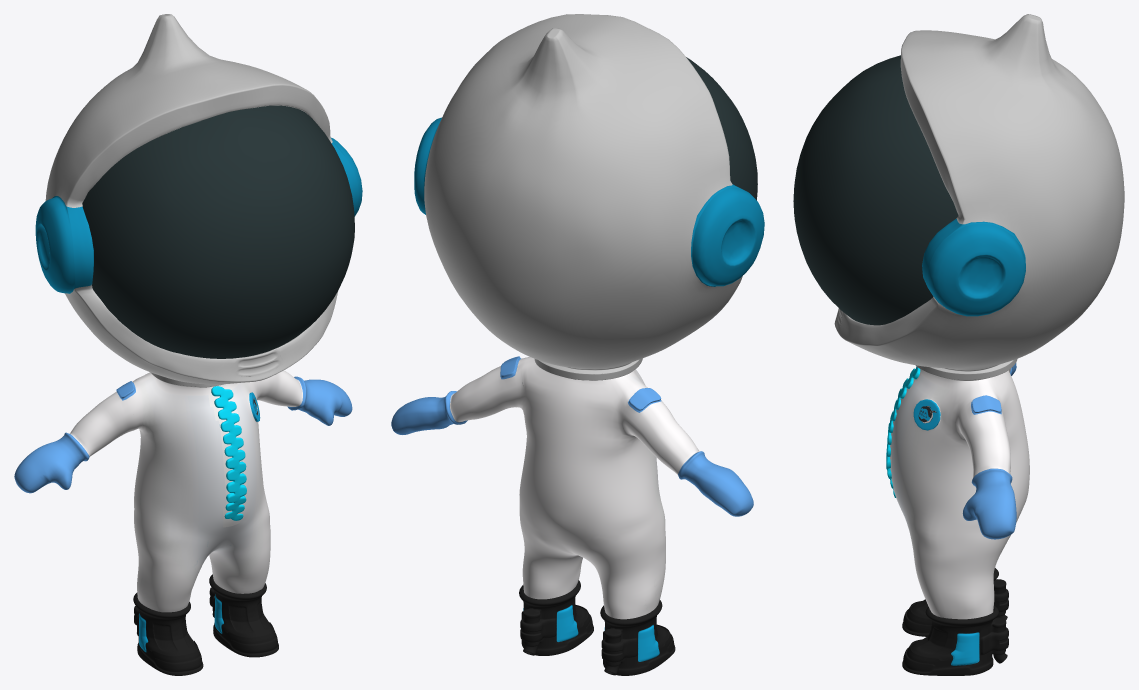
File: astronaut.glb
3 views of the same model, side by side, from view 1: azimuth 30°, elevation 25°; view 2: azimuth 150°, elevation 25°; view 3: azimuth 270°, elevation 25° (orthographic). The views are drawn at different scales.
Visible parts, largest first — view 1: pasted__Lente_nino, polySurface3, Casco_nino, pie_n_izq, pie_n_der, broche_nino, polySurface4; view 2: Casco_nino, polySurface3, pie_n_izq, pie_n_der, pasted__Lente_nino; view 3: Casco_nino, pasted__Lente_nino, polySurface3, pie_n_izq, pie_n_der, broche_nino.
Part boxes in pixels (x1,y1,x2,y2): pasted__Lente_nino: (82, 105, 354, 358); polySurface3: (14, 370, 352, 612); Casco_nino: (35, 14, 362, 387); pie_n_izq: (209, 574, 278, 657); pie_n_der: (133, 592, 203, 675); broche_nino: (211, 386, 246, 520); polySurface4: (208, 389, 247, 527); Casco_nino: (414, 14, 764, 380); polySurface3: (391, 356, 753, 619); pie_n_izq: (519, 580, 593, 655); pie_n_der: (600, 600, 675, 675); pasted__Lente_nino: (686, 57, 757, 200); Casco_nino: (834, 14, 1124, 380); pasted__Lente_nino: (793, 55, 958, 325); polySurface3: (891, 363, 1029, 619); pie_n_izq: (902, 605, 1008, 675); pie_n_der: (902, 568, 1008, 636); broche_nino: (886, 366, 920, 497).
Bounding box in the file's own units: 1.27 × 2.23 × 1.06.
Materials: 6 (4 with a texture image).
